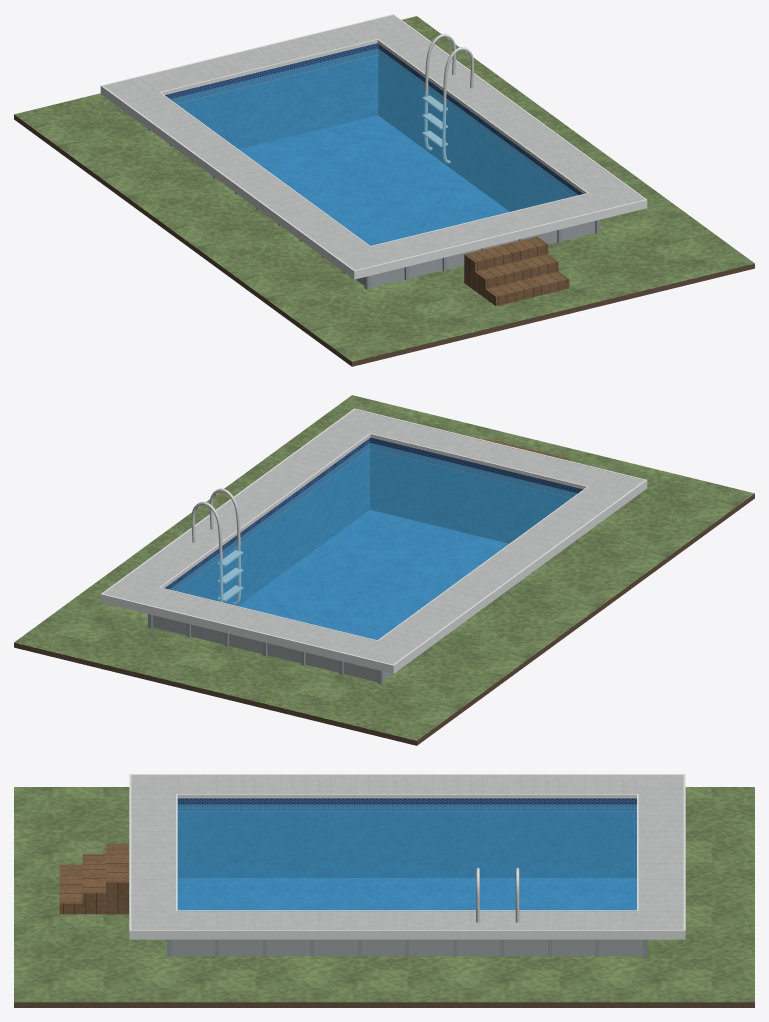
The model's file is kayak-pool-12x20-gray-walk-rec-nofence.ee7c3bbb25.glb.
3 views of the same model, one above another, from view 1: azimuth 30°, elevation 25°; view 2: azimuth 150°, elevation 25°; view 3: azimuth 270°, elevation 25° (orthographic). The views are drawn at different scales.
Visible parts, largest first — view 1: ground, water, deck, liner_wall, liner_floor, fascia, steps, soil, wall, steel; view 2: ground, water, deck, liner_wall, liner_floor, fascia, soil, wall, steel; view 3: ground, water, liner_wall, deck, liner_floor, fascia, wall, soil, steps, upright, steel.
Part boxes in pixels (x1,y1,x2,y2): ground: [14, 16, 754, 361]; water: [170, 48, 577, 245]; deck: [103, 15, 644, 270]; liner_wall: [165, 43, 582, 211]; liner_floor: [239, 115, 509, 245]; fascia: [100, 14, 647, 279]; steps: [464, 236, 569, 306]; soil: [14, 114, 754, 366]; wall: [356, 221, 595, 287]; steel: [422, 34, 473, 163]; ground: [14, 395, 754, 740]; water: [169, 443, 577, 639]; deck: [103, 409, 644, 664]; liner_wall: [165, 437, 583, 605]; liner_floor: [239, 510, 508, 639]; fascia: [100, 408, 647, 673]; soil: [14, 493, 754, 745]; wall: [152, 615, 392, 681]; steel: [191, 488, 243, 604]; ground: [14, 787, 754, 1002]; water: [177, 804, 636, 910]; liner_wall: [177, 798, 636, 877]; deck: [131, 775, 683, 929]; liner_floor: [177, 878, 636, 910]; fascia: [129, 774, 685, 939]; wall: [171, 939, 642, 955]; soil: [14, 1002, 754, 1007]; steps: [59, 843, 128, 914]; upright: [167, 939, 647, 956]; steel: [476, 867, 519, 922].
Bounding box in the file's own units: 6.71 × 1.9 × 9.75.
Materials: 12 (5 with a texture image).
